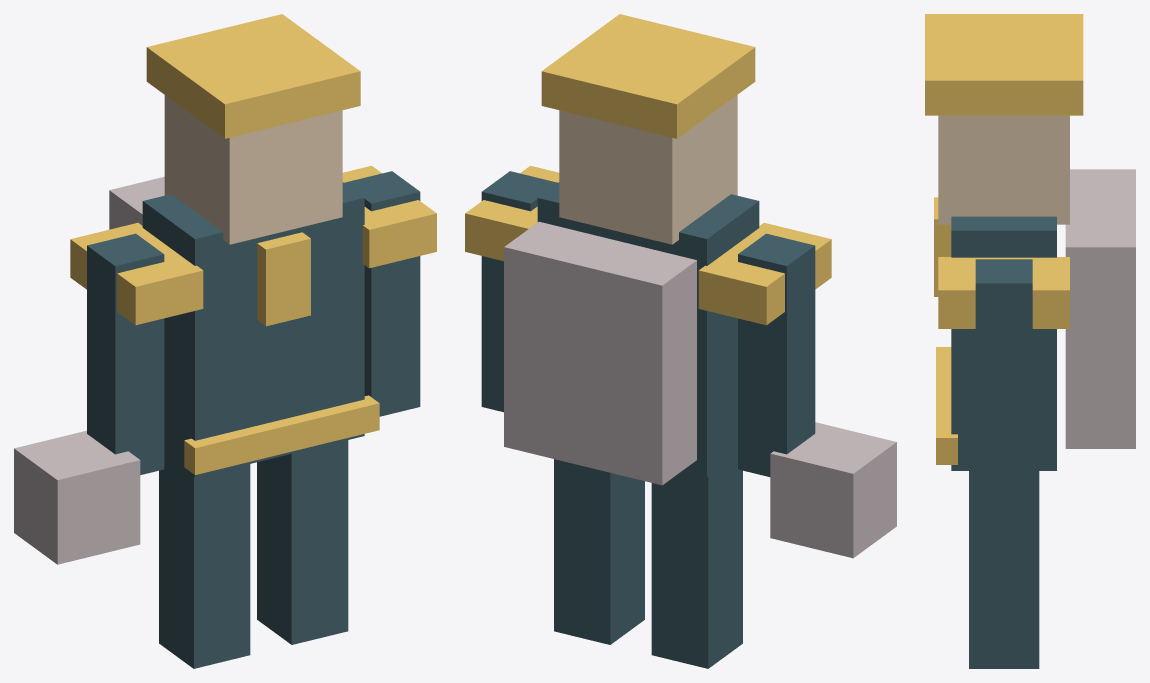
Rendered from 17_eryk_dubwater_medic_of.glb.
The picture shows the model from 3 angles, left to right: view 1: azimuth 30°, elevation 25°; view 2: azimuth 150°, elevation 25°; view 3: azimuth 270°, elevation 25°; orthographic projection.
Visible parts, largest first — view 1: Eryk Dubwater, Medic of; view 2: Eryk Dubwater, Medic of; view 3: Eryk Dubwater, Medic of.
Boxes of the visible parts, x1,y1,x2,y2 form: Eryk Dubwater, Medic of: (14, 14, 436, 668); Eryk Dubwater, Medic of: (465, 14, 896, 668); Eryk Dubwater, Medic of: (925, 14, 1135, 668).
Bounding box in the file's own units: 1.04 × 1.53 × 0.5.
